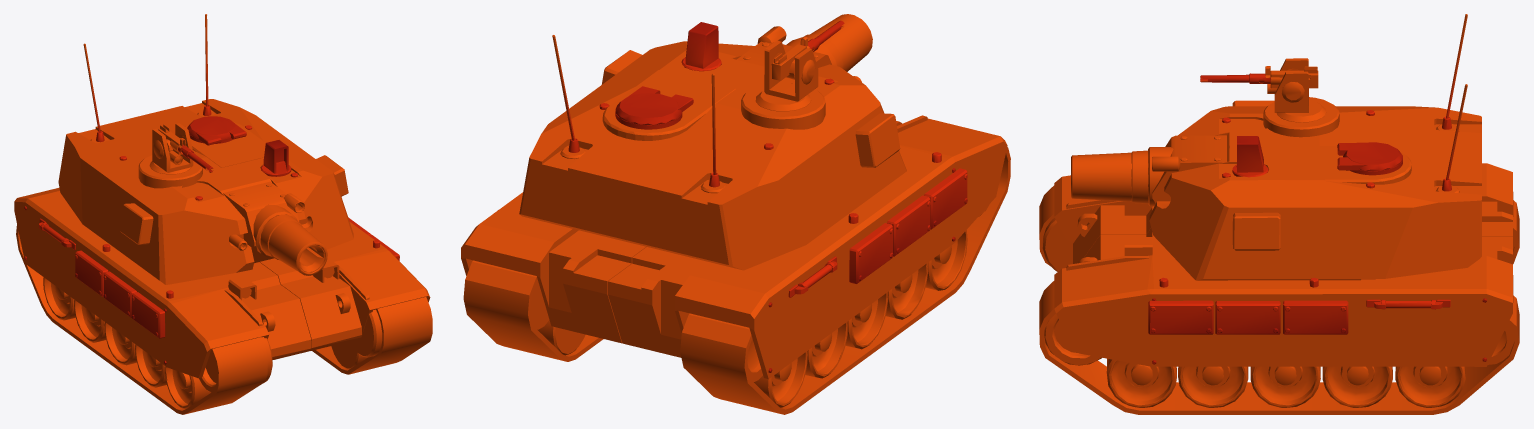
Rendered from WbMdTank.fbx.
3 views of the same model, side by side, from view 1: azimuth 30°, elevation 25°; view 2: azimuth 150°, elevation 25°; view 3: azimuth 270°, elevation 25° (orthographic). The views are drawn at different scales.
Visible parts, largest first — view 1: mdtank; view 2: mdtank; view 3: mdtank.
Part boxes in pixels (x1,y1,x2,y2): mdtank: [14, 14, 432, 414]; mdtank: [461, 14, 1010, 414]; mdtank: [1039, 14, 1519, 414].
Bounding box in the file's own units: 0.6771 × 0.6838 × 0.9789.
